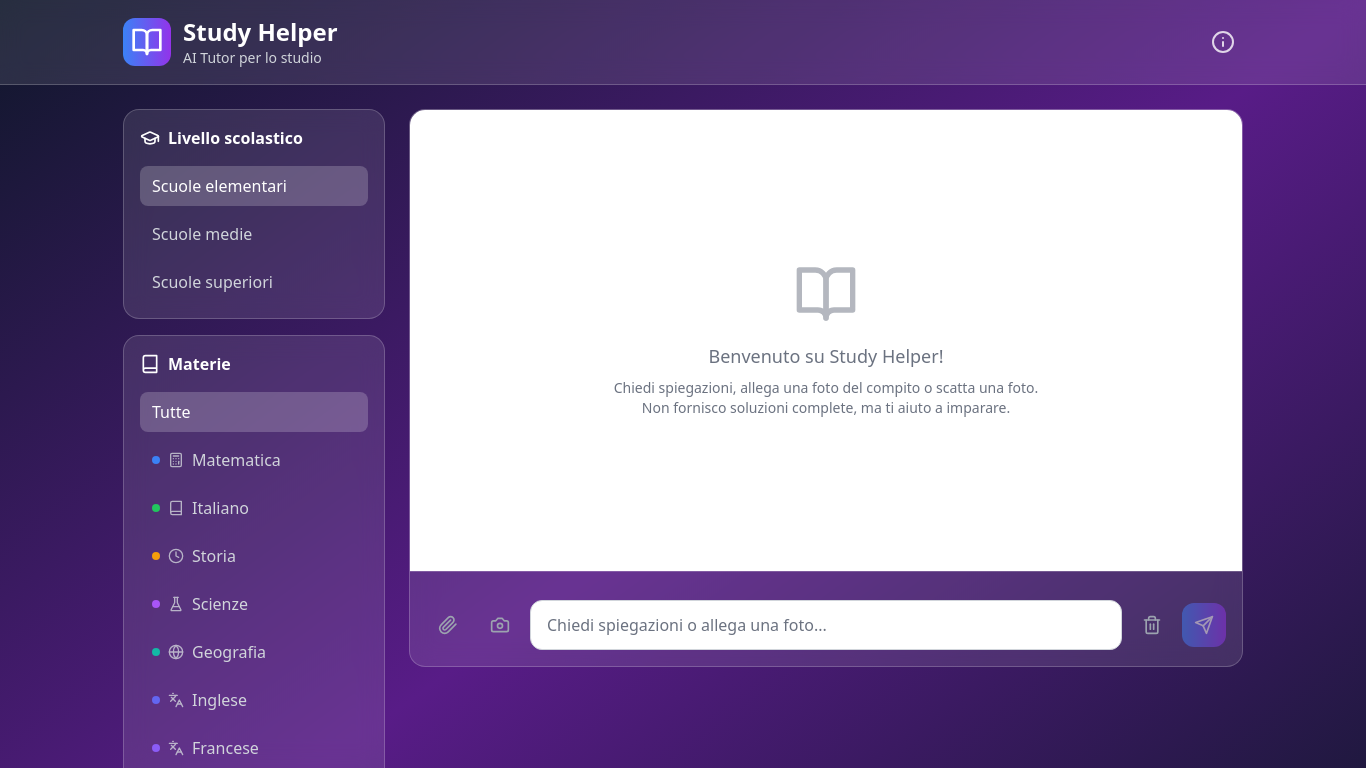
Test: App › displays error message when API fails
Type "Test question" into the field with placeholder "Chiedi spiegazioni o allega una foto...". click: (826, 625)
box: [530,600,1122,650]
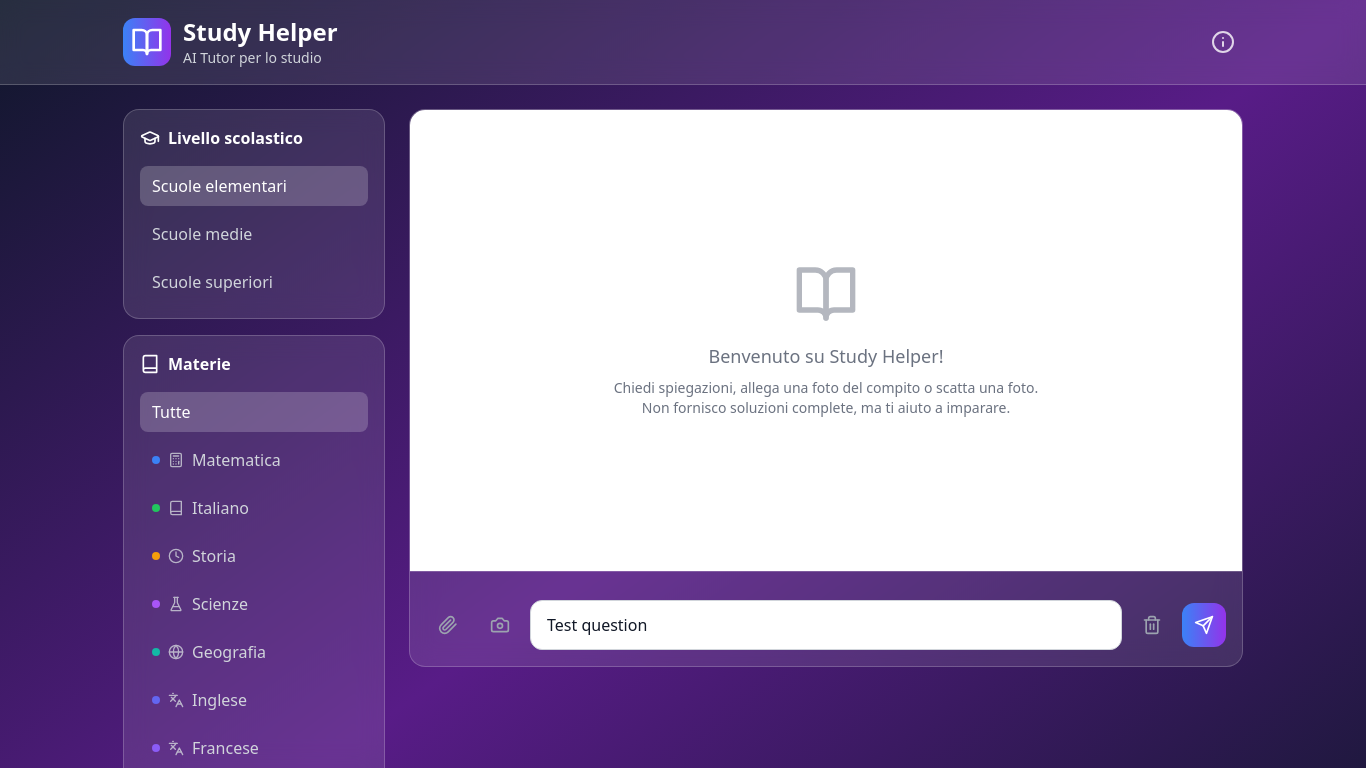
Click the button named "invia". click: (1204, 625)
box: [1182,603,1226,647]
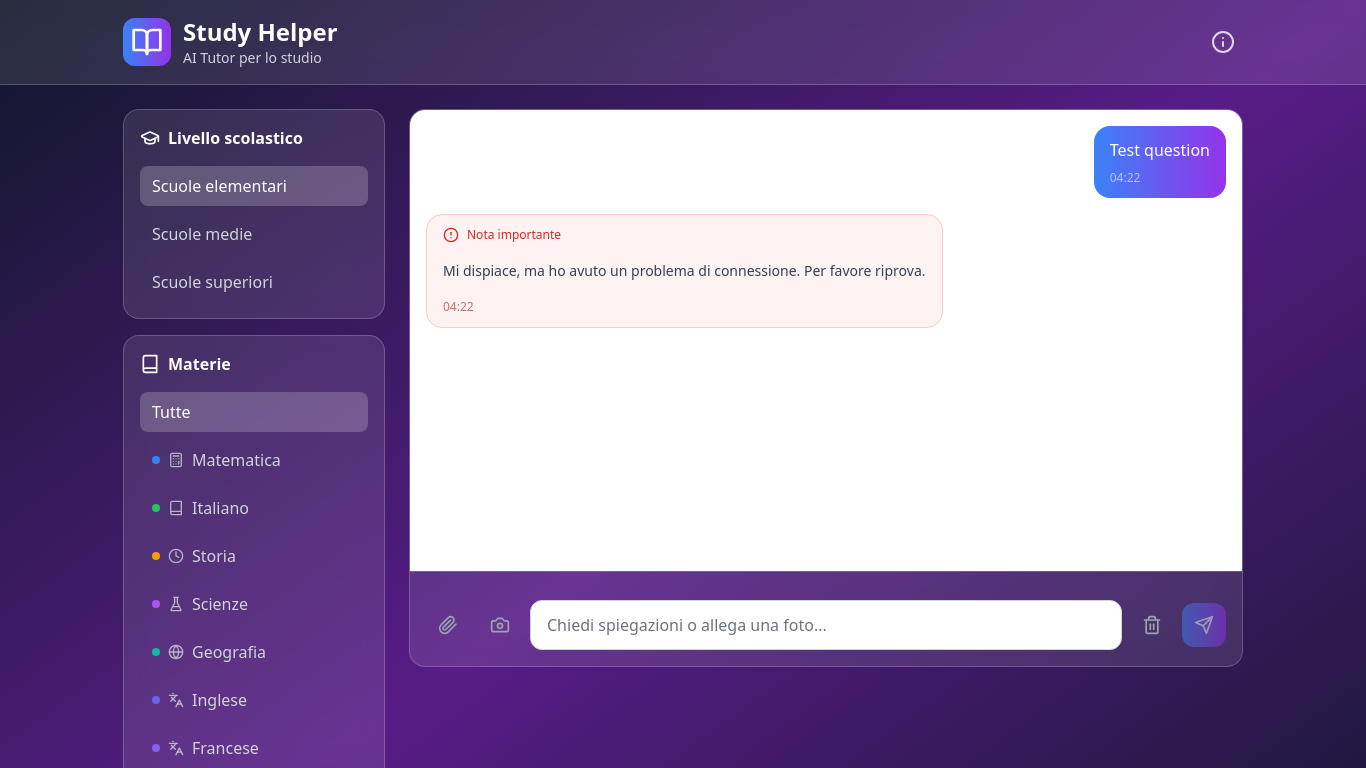
Check: the text "problema di connessione" is shown, box [443,261,926,280]
